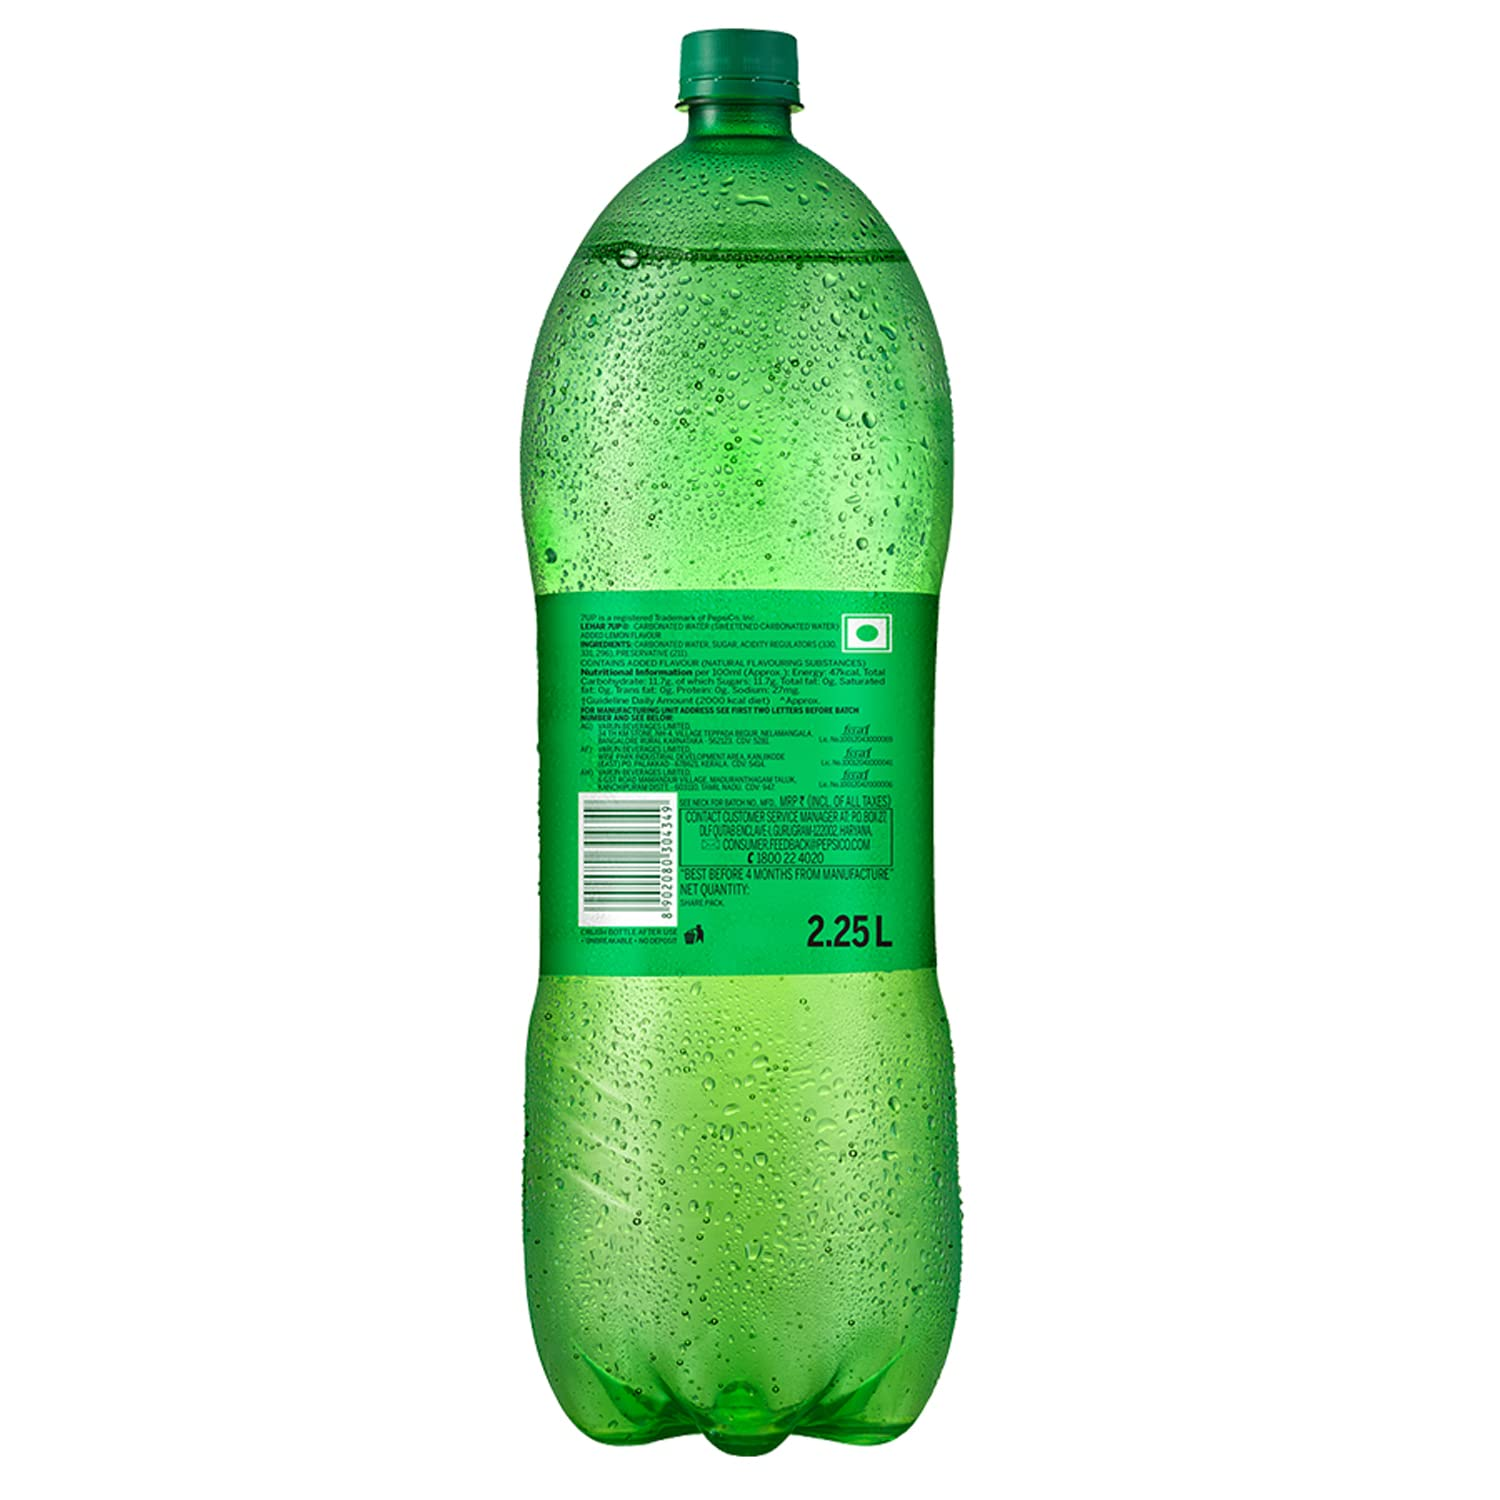cool_drink_bottle: (393, 29, 1176, 1470)
